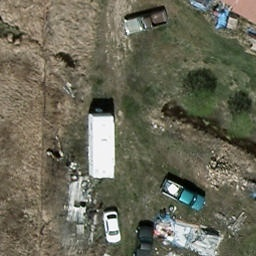camping car: (87, 113, 115, 178)
car: (100, 210, 122, 245)
pickup: (162, 180, 207, 211), (124, 10, 170, 34)
